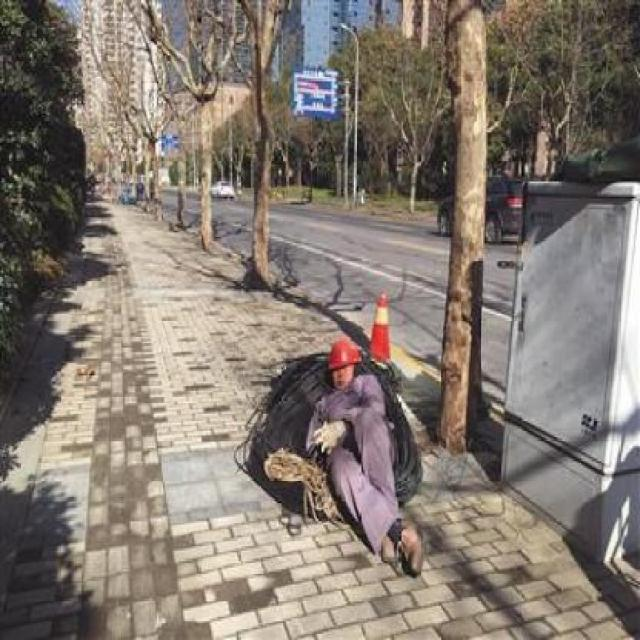fall: (272, 327, 436, 576)
